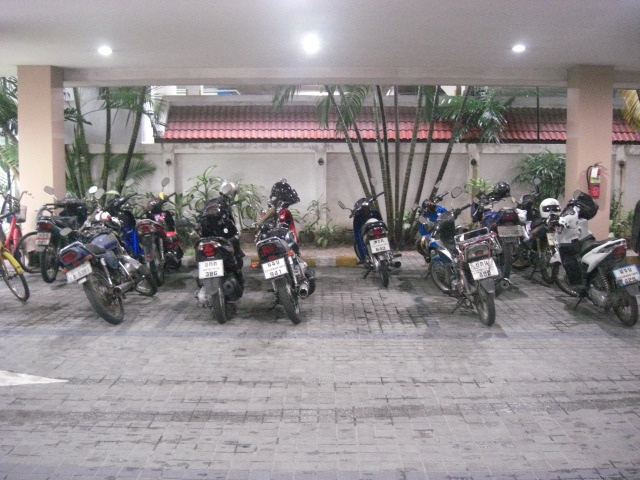non-vehicle: (58, 191, 159, 324), (410, 190, 505, 329), (544, 188, 639, 327), (249, 178, 316, 325), (188, 180, 247, 325), (336, 176, 403, 287), (506, 175, 561, 284), (131, 190, 188, 285), (466, 188, 521, 285), (35, 185, 86, 285)
